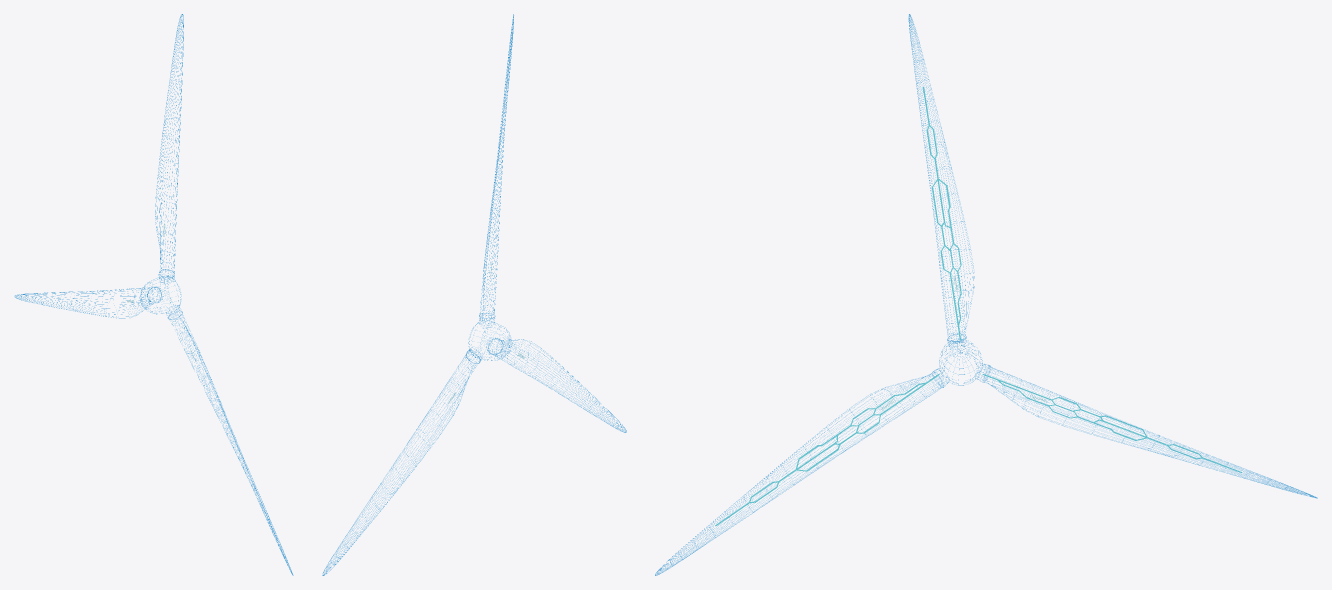
Rendered from liuguang.glb.
The picture shows the model from 3 angles, left to right: view 1: azimuth 30°, elevation 25°; view 2: azimuth 150°, elevation 25°; view 3: azimuth 270°, elevation 25°; orthographic projection. The views are drawn at different scales.
Parts seen in each view (by area): view 1: 外壳; view 2: 外壳; view 3: 外壳, 模型_1, 模型, 模型_2.
Part boxes in pixels (<box>): 外壳: <box>14,14,293,575</box>; 外壳: <box>322,14,626,575</box>; 外壳: <box>655,14,1317,575</box>; 模型_1: <box>715,374,939,525</box>; 模型: <box>922,87,961,340</box>; 模型_2: <box>982,374,1242,472</box>.
Size of the model in its own units: 15.66 by 219 by 235.
